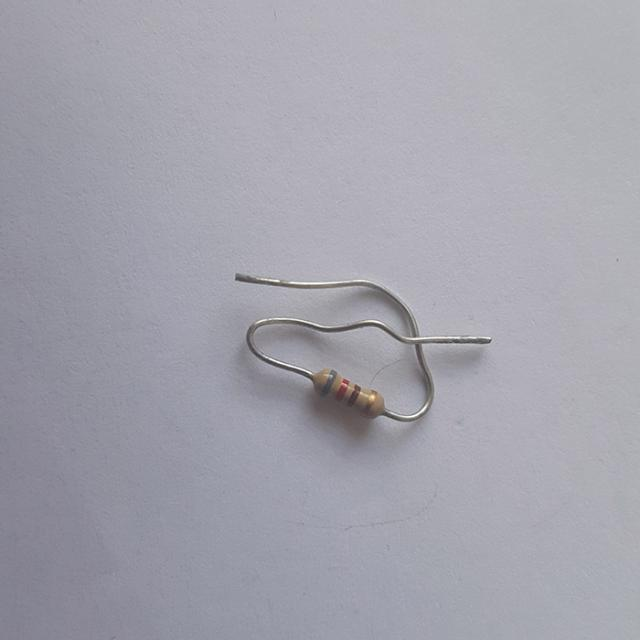brown: (347, 384, 360, 404)
gold: (363, 389, 374, 411)
grey: (321, 370, 336, 395)
red: (335, 380, 349, 400)
resistor: (307, 362, 393, 430)
